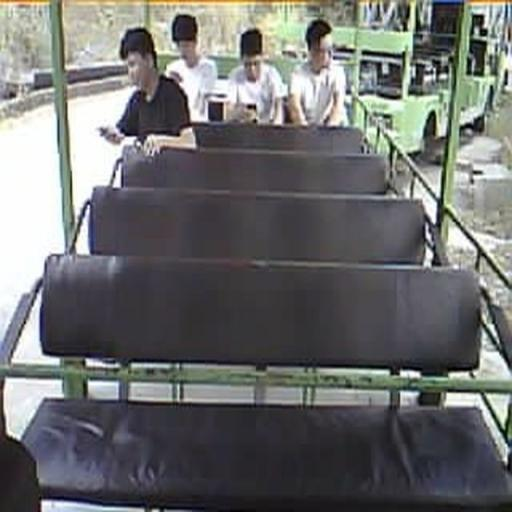persona: (98, 26, 191, 148), (288, 18, 348, 128), (164, 13, 218, 122), (225, 28, 285, 126)
